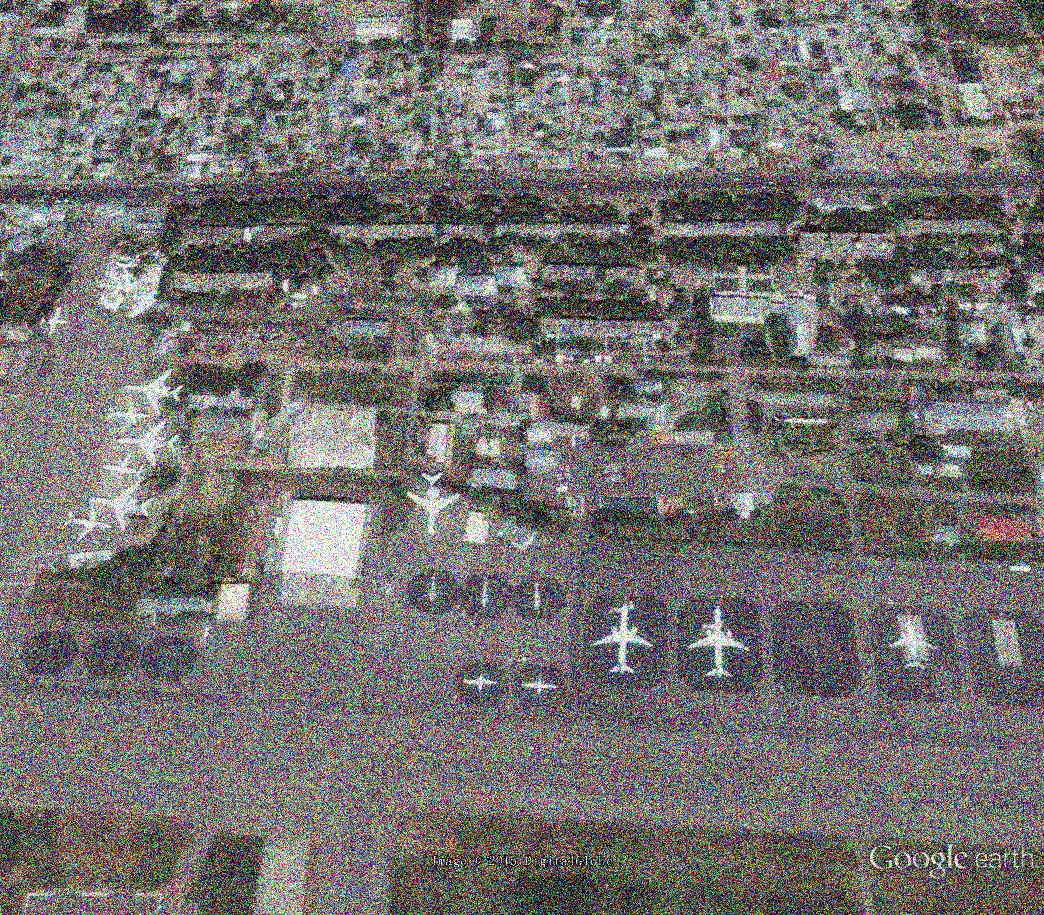aircraft: (681, 597, 756, 688), (589, 598, 660, 682), (399, 468, 465, 544), (112, 414, 184, 477), (85, 475, 156, 534), (885, 613, 943, 675), (118, 366, 186, 418), (58, 498, 117, 546), (99, 448, 150, 493), (103, 394, 156, 436), (517, 669, 559, 700), (462, 669, 501, 700), (36, 306, 72, 337)
